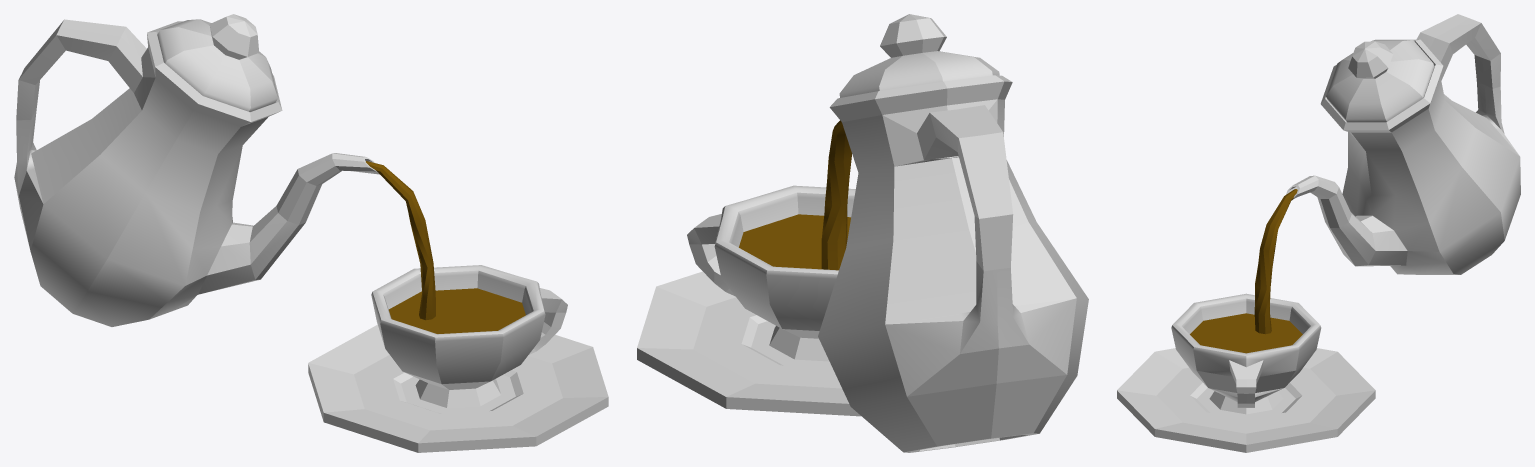
The model's file is teatime.fbx.
3 views of the same model, side by side, from view 1: azimuth 30°, elevation 25°; view 2: azimuth 150°, elevation 25°; view 3: azimuth 270°, elevation 25° (orthographic). The views are drawn at different scales.
Visible parts, largest first — view 1: pSphere3; view 2: pSphere3; view 3: pSphere3.
Part boxes in pixels (x1,y1,x2,y2): pSphere3: [14, 14, 608, 452]; pSphere3: [637, 14, 1088, 452]; pSphere3: [1117, 14, 1520, 452].
Size of the model in its own units: 5.66 by 4.5 by 5.31.
